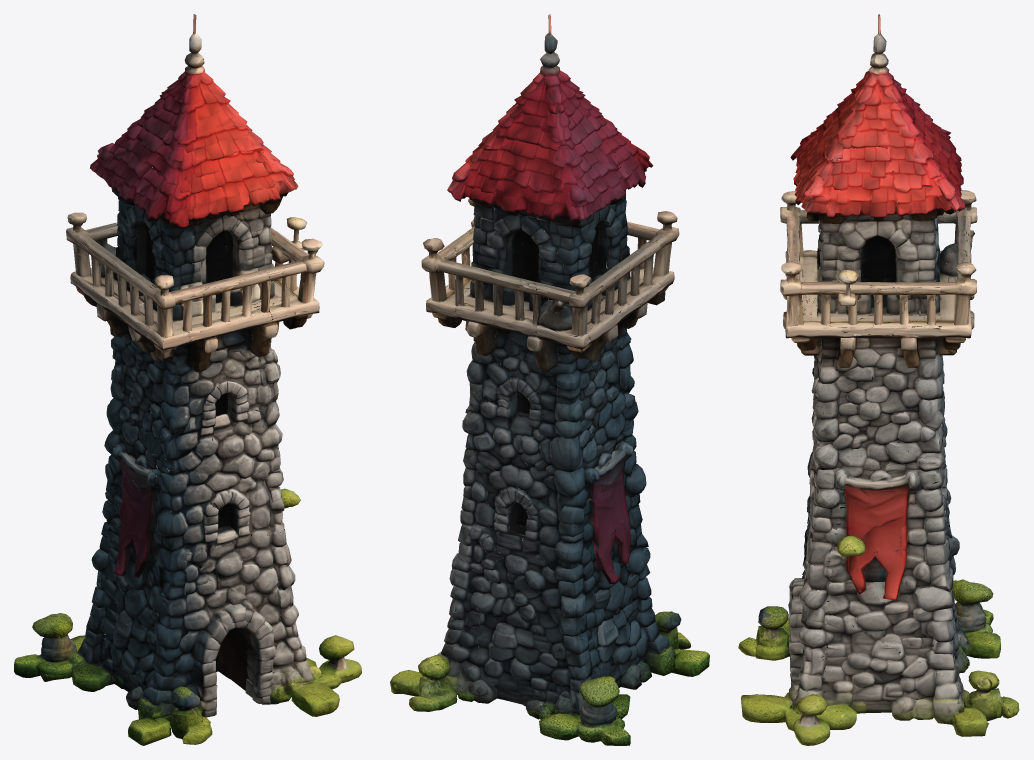
Rendered from landmark_watchtower.glb.
The picture shows the model from 3 angles, left to right: view 1: azimuth 30°, elevation 25°; view 2: azimuth 150°, elevation 25°; view 3: azimuth 270°, elevation 25°; orthographic projection.
Visible parts, largest first — view 1: tripo_node_acc4dffb-be11-4ad5-9201-c2e5e6f64fed; view 2: tripo_node_acc4dffb-be11-4ad5-9201-c2e5e6f64fed; view 3: tripo_node_acc4dffb-be11-4ad5-9201-c2e5e6f64fed.
Boxes of the visible parts, left/top/right/bottom form: tripo_node_acc4dffb-be11-4ad5-9201-c2e5e6f64fed: left=14, top=14, right=361, bottom=745; tripo_node_acc4dffb-be11-4ad5-9201-c2e5e6f64fed: left=390, top=14, right=709, bottom=745; tripo_node_acc4dffb-be11-4ad5-9201-c2e5e6f64fed: left=738, top=14, right=1019, bottom=745.
Bounding box in the file's own units: 0.4015 × 0.9809 × 0.3715.
Materials: 1 (1 with a texture image).
